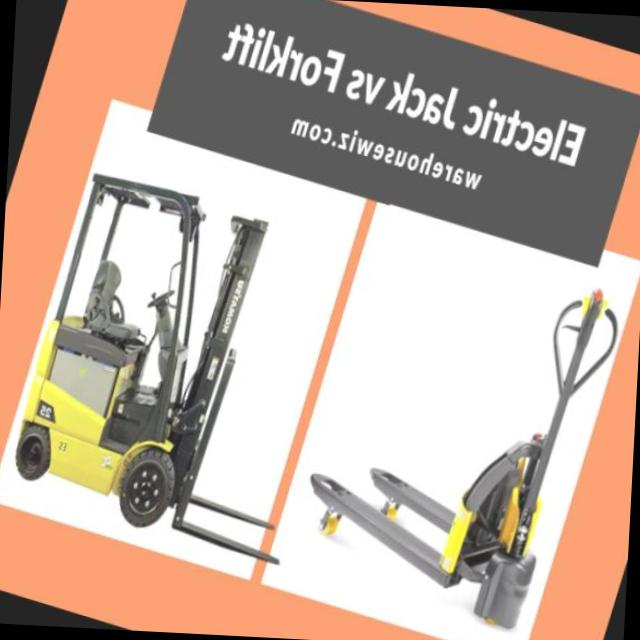forklift: (0, 135, 301, 550)
